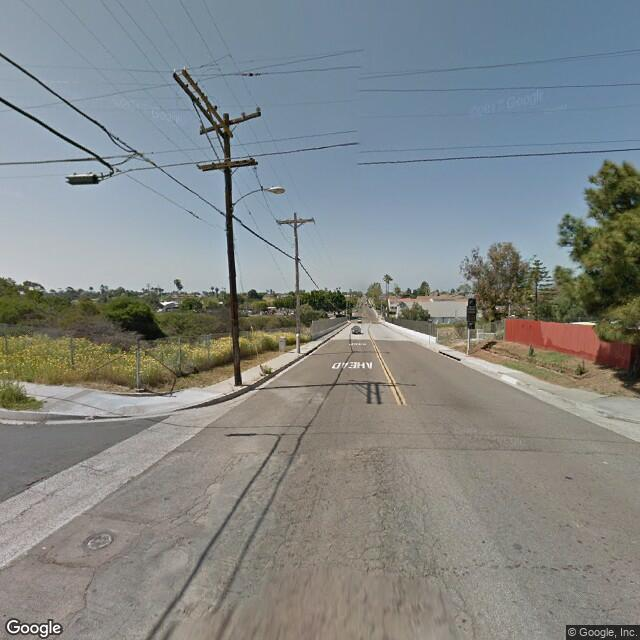litter: (21, 536, 63, 557)
